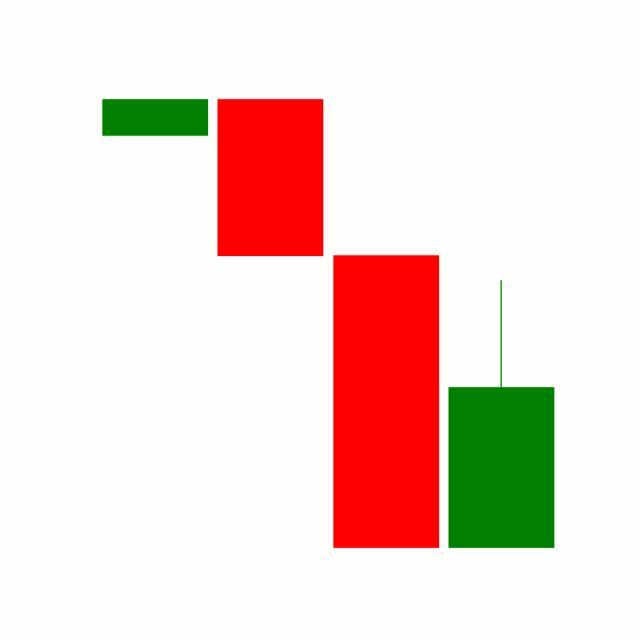Marubozu: (329, 253, 445, 552)
